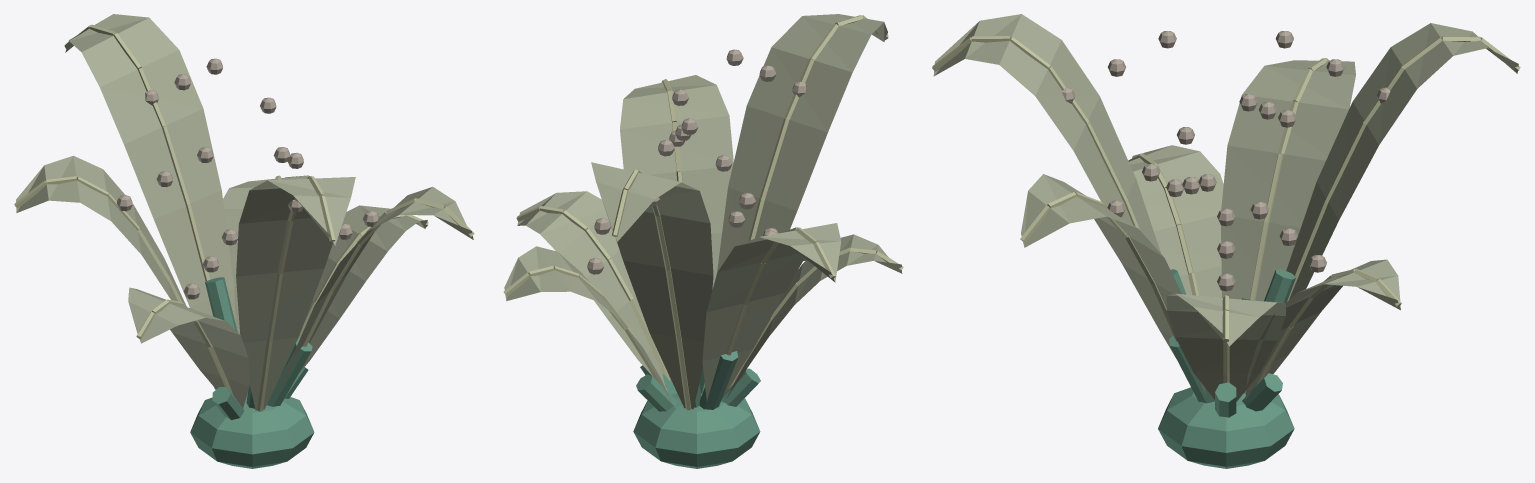
File: glowfern-weakened.glb
The picture shows the model from 3 angles, left to right: view 1: azimuth 30°, elevation 25°; view 2: azimuth 150°, elevation 25°; view 3: azimuth 270°, elevation 25°; orthographic projection. The views are drawn at different scales.
Parts seen in each view (by area): view 1: glowfern.sway-pivot; view 2: glowfern.sway-pivot; view 3: glowfern.sway-pivot.
Boxes of the visible parts, x1=… form: glowfern.sway-pivot: x1=14, y1=14, x2=474, y2=468; glowfern.sway-pivot: x1=503, y1=14, x2=903, y2=468; glowfern.sway-pivot: x1=932, y1=14, x2=1520, y2=468.
Size of the model in its own units: 0.7952 by 0.8056 by 1.02.
